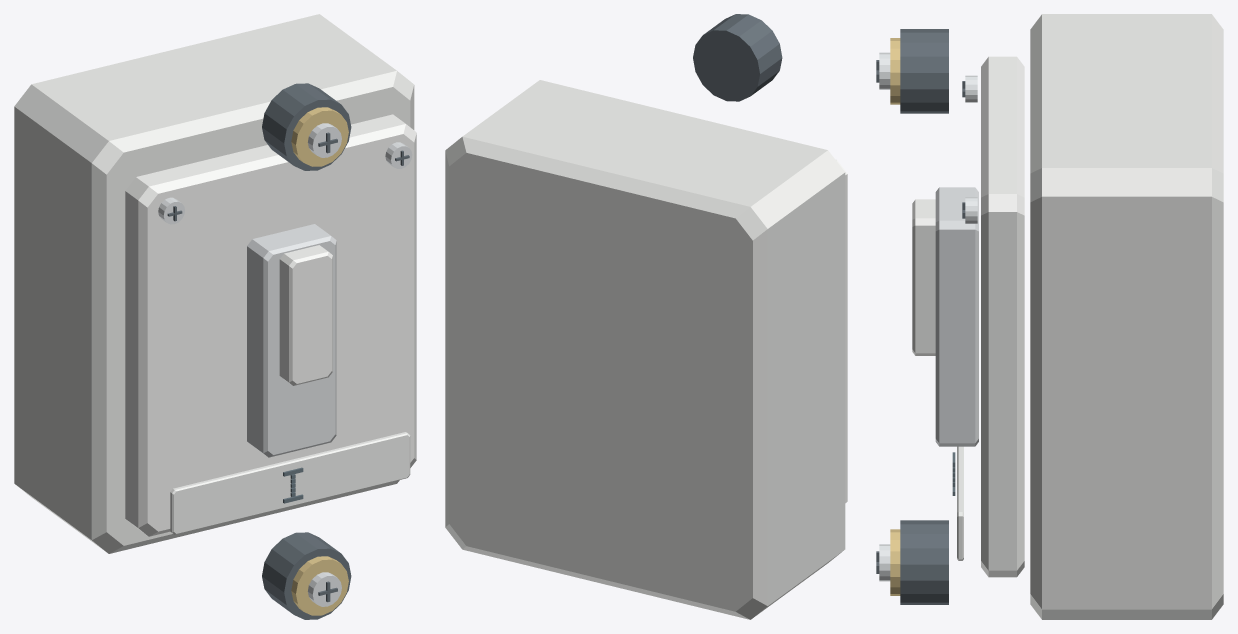
Rendered from lightSwitch.glb.
3 views of the same model, side by side, from view 1: azimuth 30°, elevation 25°; view 2: azimuth 150°, elevation 25°; view 3: azimuth 270°, elevation 25° (orthographic). The views are drawn at different scales.
Parts seen in each view (by area): view 1: lightSwitch-preview; view 2: lightSwitch-preview; view 3: lightSwitch-preview.
Part boxes in pixels (x1,y1,x2,y2): lightSwitch-preview: (14, 14, 416, 619); lightSwitch-preview: (445, 14, 847, 619); lightSwitch-preview: (876, 14, 1223, 619).
Size of the model in its own units: 1.5 by 2.31 by 1.28.
